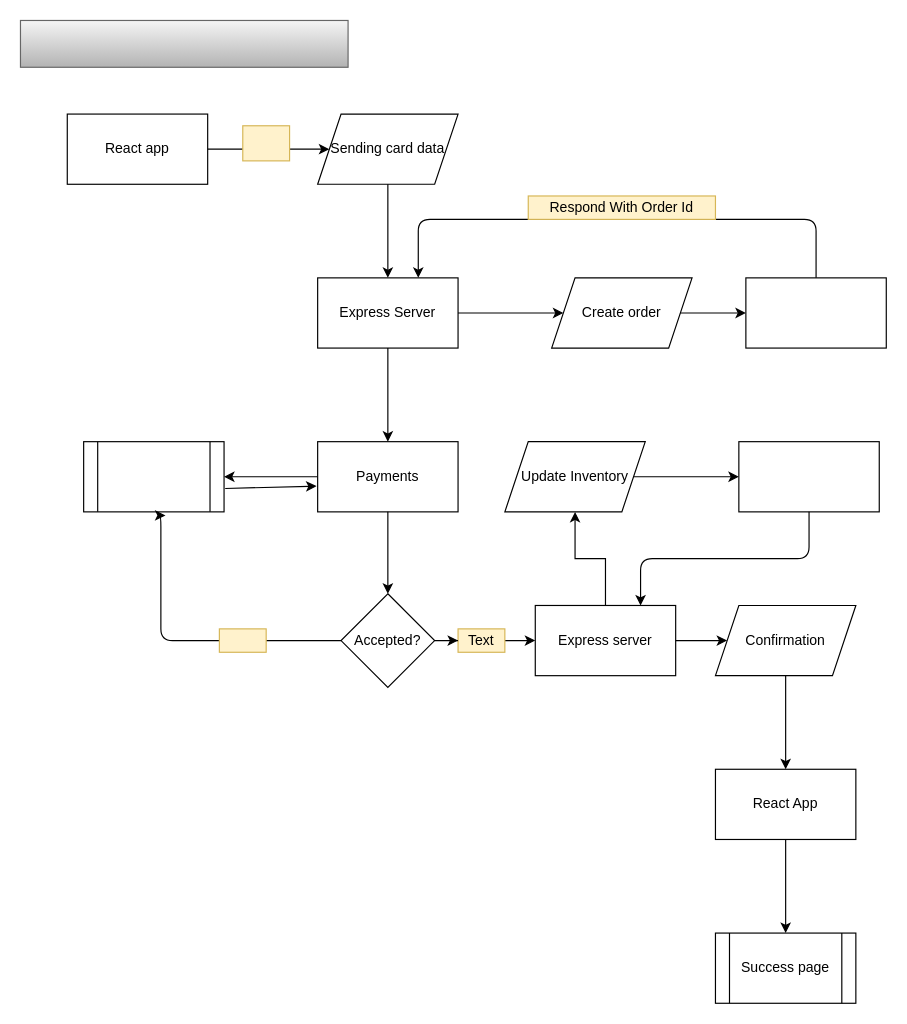
Image size: 907x1024. Some labels were removed from this diagram. The shapes that lost their labels are listed below. From the top down, each one's centre as x and y in pixels, then its label:
pixel 183 43: Check out and Payment
pixel 266 143: Check out
pixel 815 312: Order
pixel 153 476: Payment details
pixel 808 476: Inventory
pixel 242 640: No
